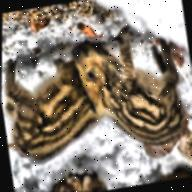boar: (65, 19, 192, 164), (0, 45, 109, 170)
